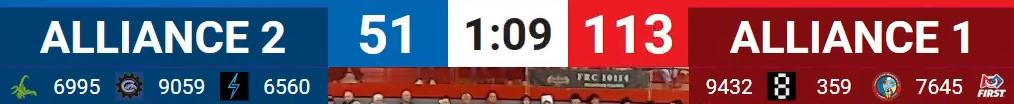blue_score: (355, 10, 416, 59)
red_score: (582, 12, 677, 60)
team_number: (152, 73, 208, 100), (259, 74, 313, 99), (701, 73, 757, 97), (912, 74, 967, 98), (49, 74, 102, 97), (811, 76, 856, 98)
timer: (461, 13, 554, 56)
